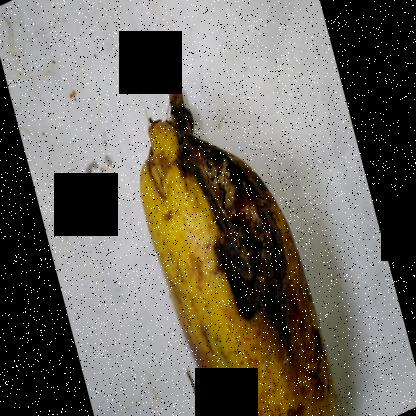ripe: (184, 300, 351, 415)
rotten: (137, 84, 315, 318)
